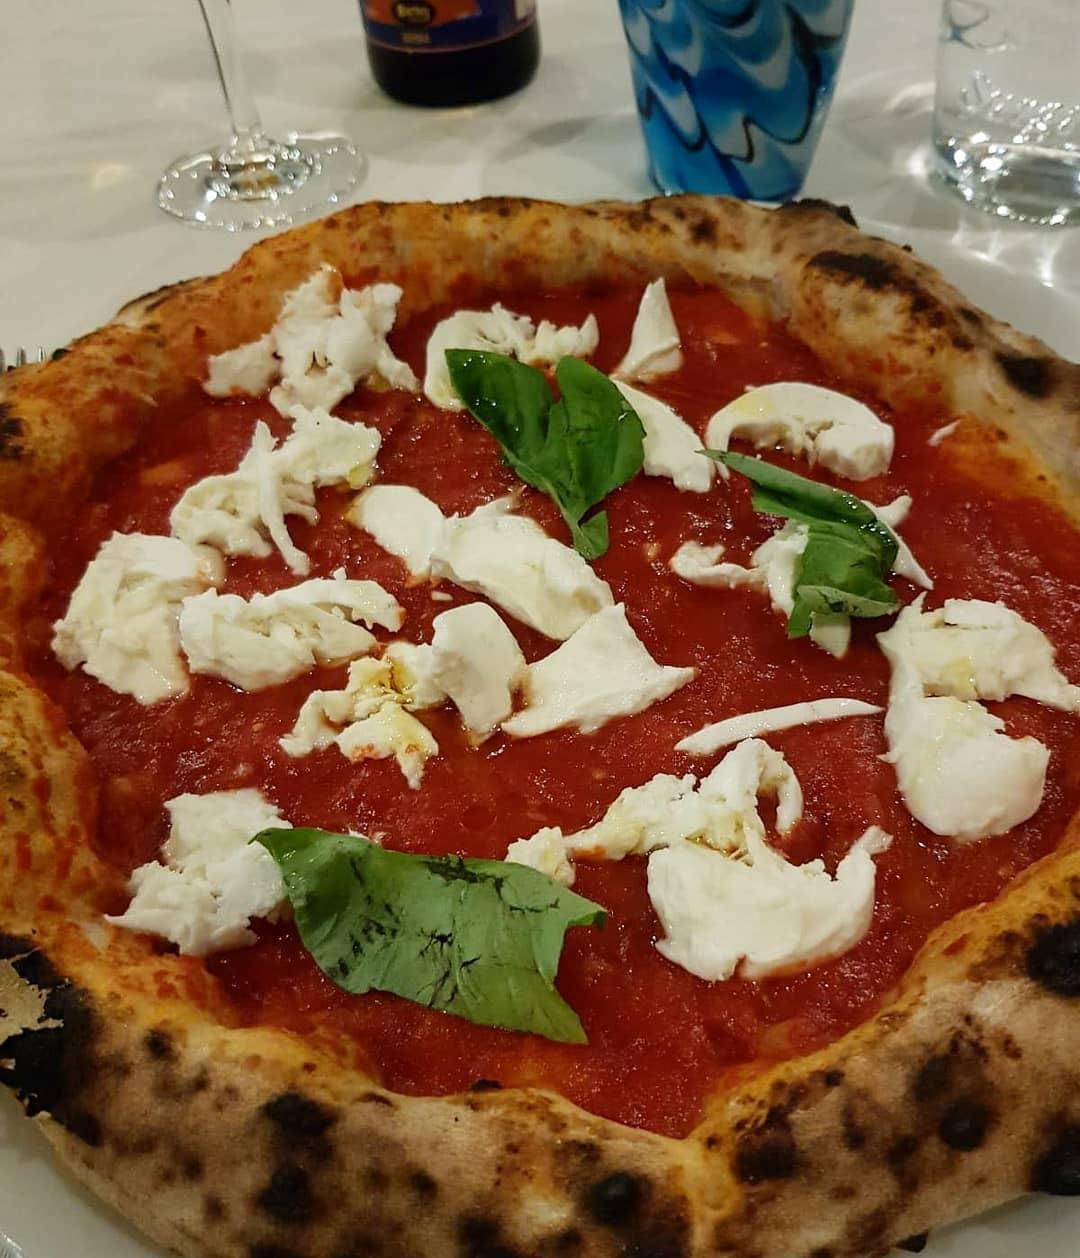Basil: (250, 826, 615, 1053), (433, 340, 655, 574), (695, 441, 907, 641)
Cheese: (566, 733, 890, 988), (278, 597, 539, 803), (873, 590, 1080, 849), (343, 478, 647, 633), (155, 415, 405, 585), (192, 263, 437, 428), (50, 531, 242, 716), (106, 777, 297, 951), (175, 565, 417, 697), (500, 590, 706, 743), (608, 271, 718, 507), (703, 370, 913, 482), (420, 295, 603, 419), (665, 685, 883, 766), (506, 816, 575, 893)
Pizza: (0, 193, 1080, 1258)
